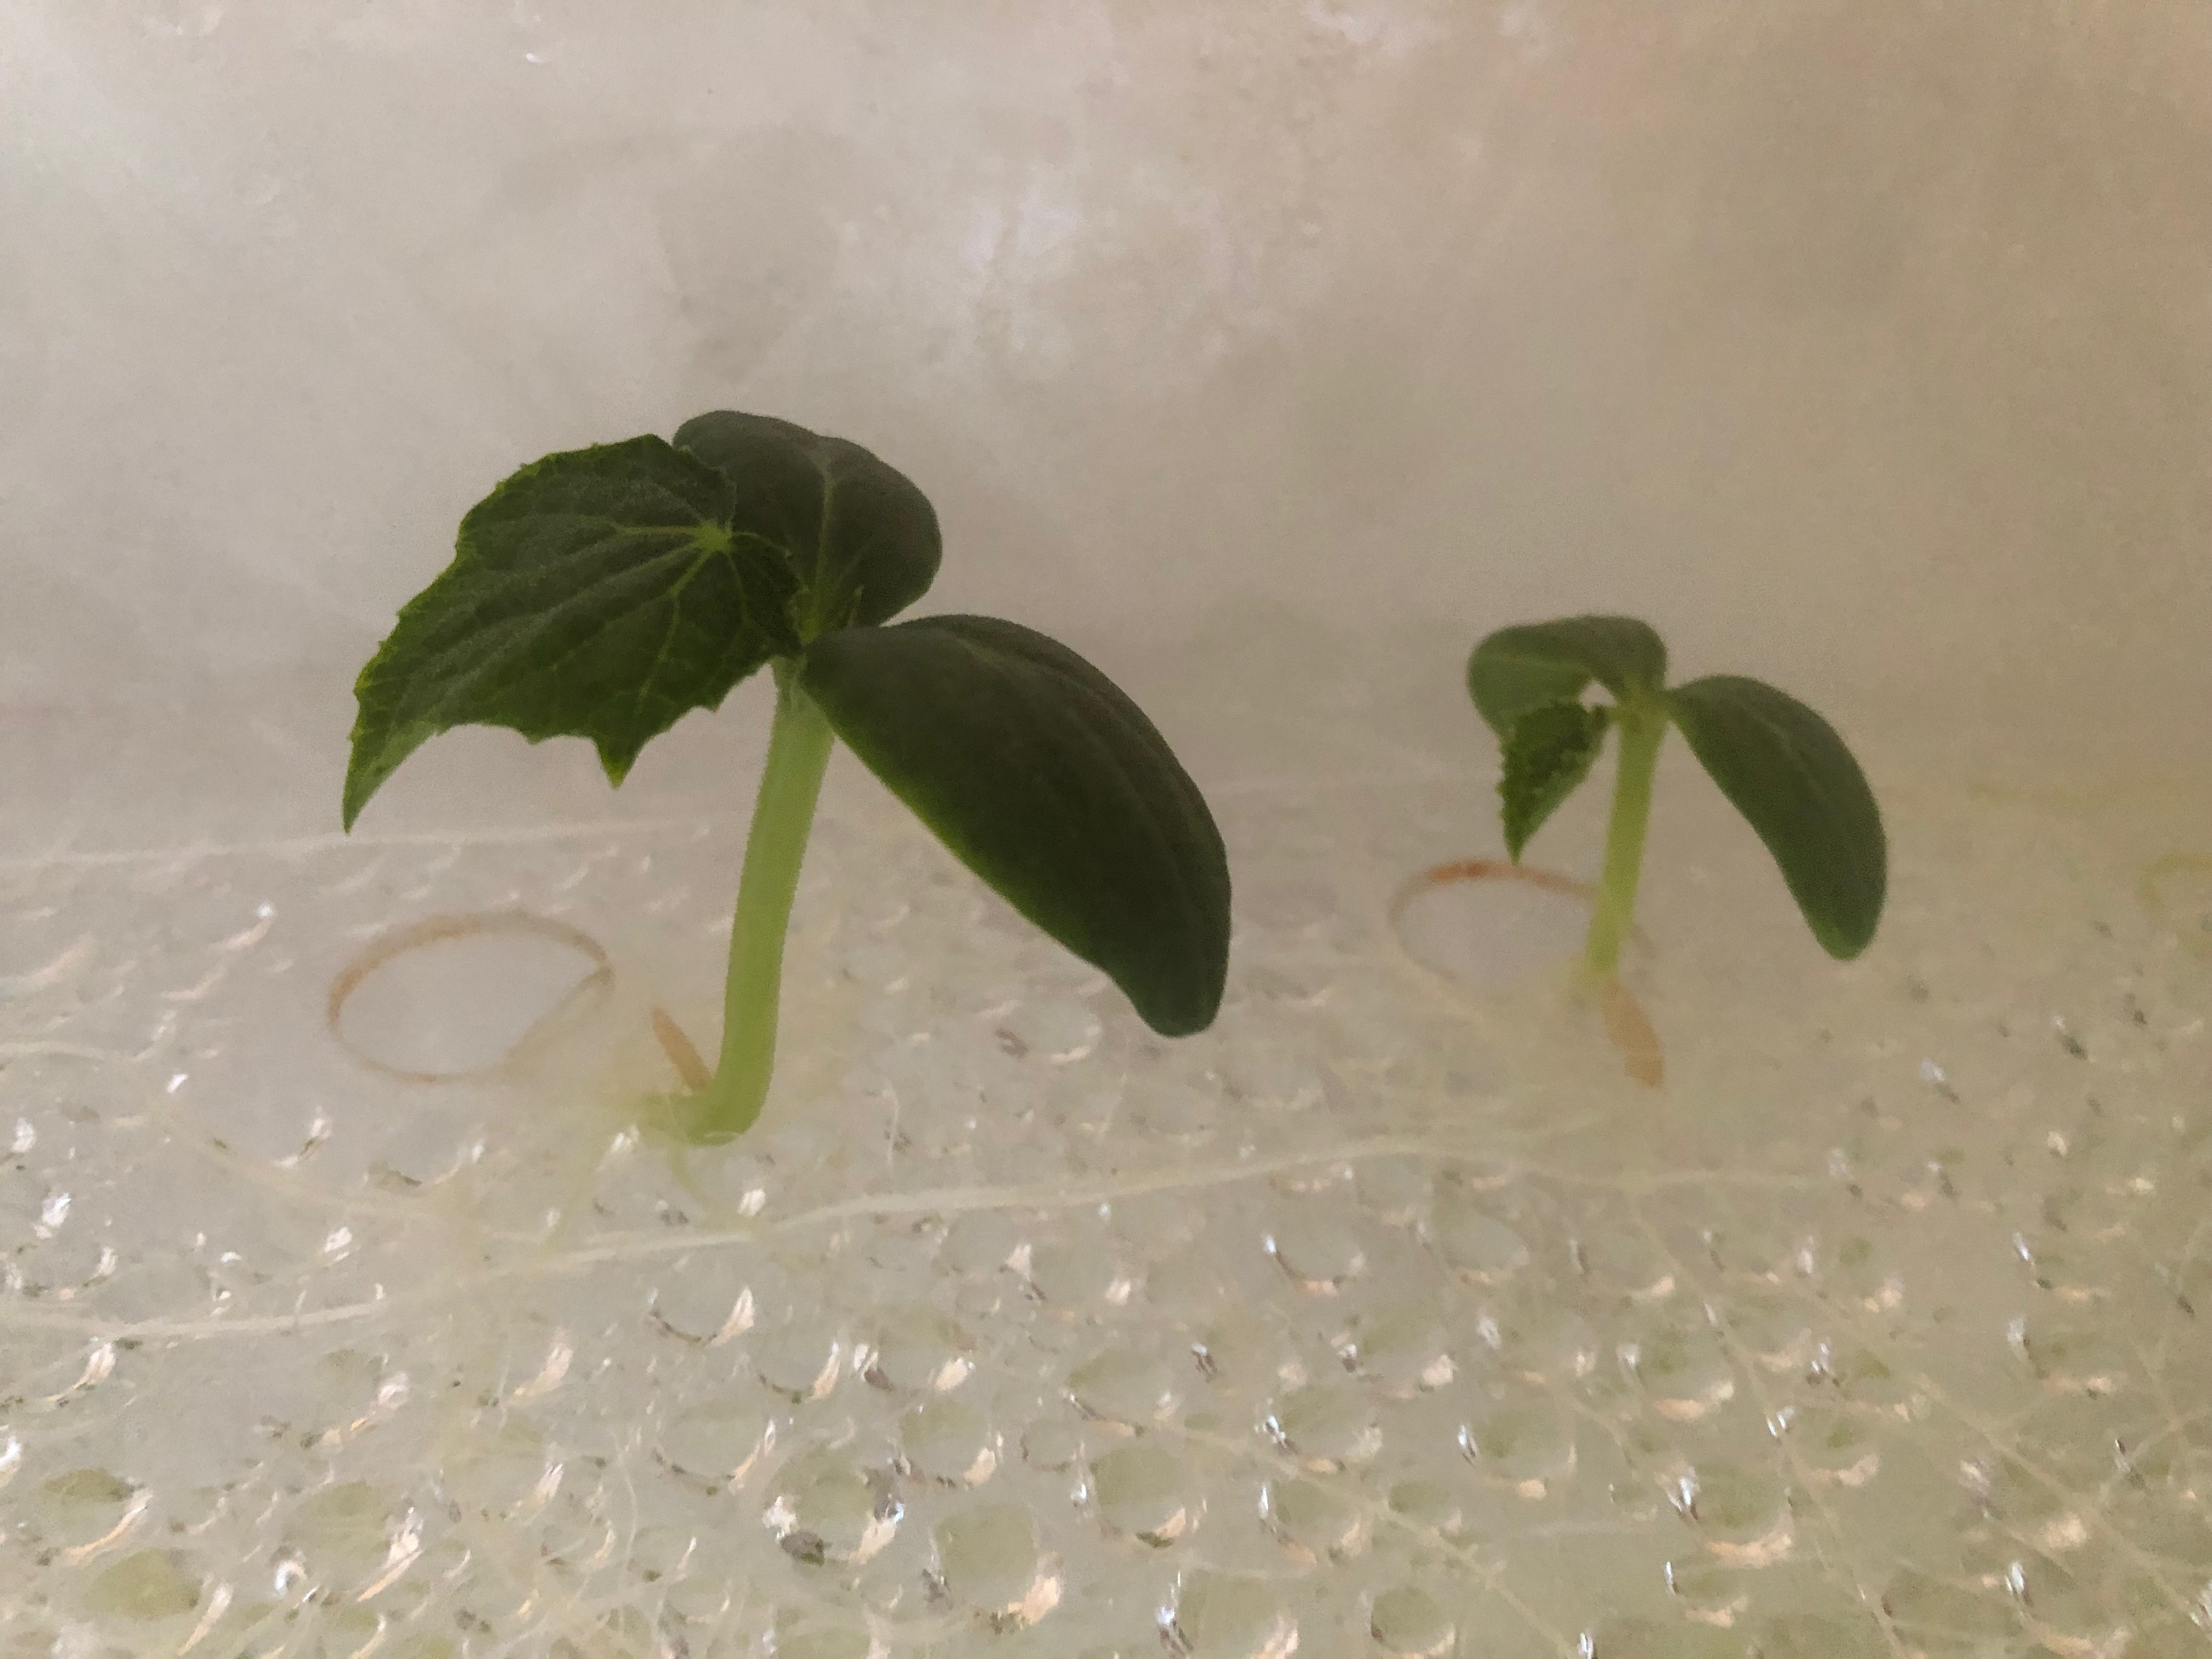lil_plant: (298, 380, 1345, 1253), (1480, 516, 1984, 958)
